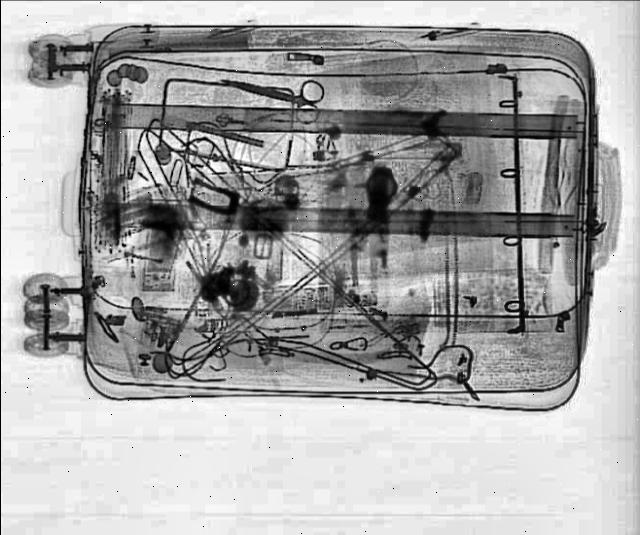Scissors: (212, 62, 331, 128)
